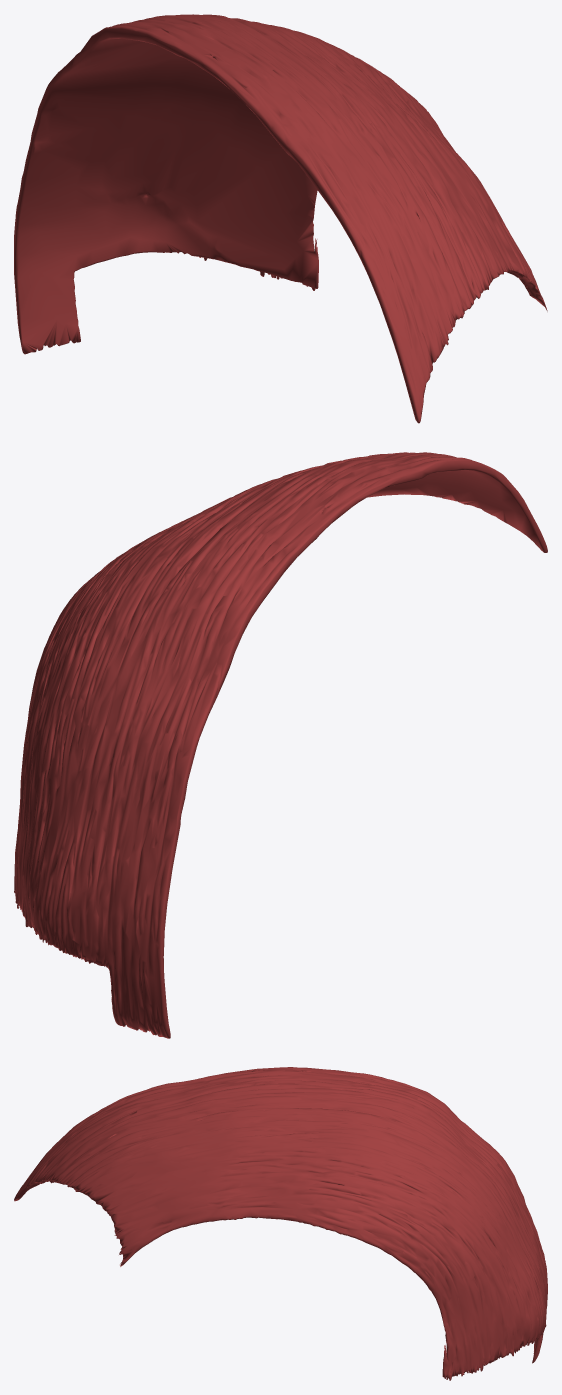
File: epicranial-aponeurosis-l.glb
3 renders of one model, top to bottom at view 1: azimuth 30°, elevation 25°; view 2: azimuth 150°, elevation 25°; view 3: azimuth 270°, elevation 25°, orthographic. The views are drawn at different scales.
Visible parts, largest first — view 1: Epicranial aponeurosis.l; view 2: Epicranial aponeurosis.l; view 3: Epicranial aponeurosis.l.
Boxes of the visible parts, x1=… form: Epicranial aponeurosis.l: x1=14, y1=14, x2=547, y2=423; Epicranial aponeurosis.l: x1=14, y1=452, x2=547, y2=1038; Epicranial aponeurosis.l: x1=14, y1=1067, x2=547, y2=1380.
Bounding box in the file's own units: 0.0669 × 0.1091 × 0.1885.
